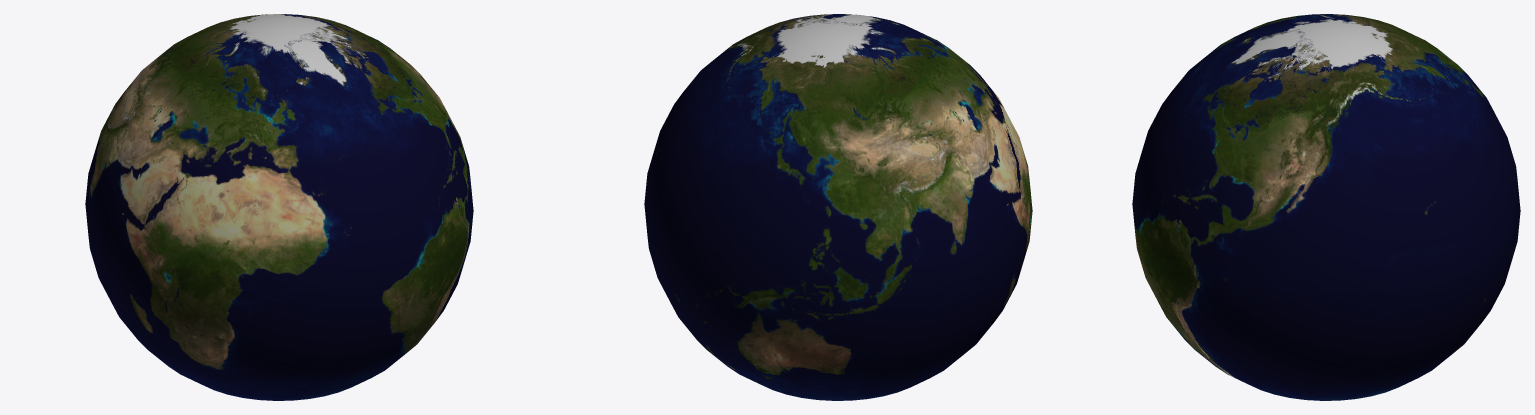
The picture shows the model from 3 angles, left to right: view 1: azimuth 30°, elevation 25°; view 2: azimuth 150°, elevation 25°; view 3: azimuth 270°, elevation 25°; orthographic projection.
Parts seen in each view (by area): view 1: sphere1; view 2: sphere1; view 3: sphere1.
Part boxes in pixels (x1=…): sphere1: x1=85, y1=14, x2=473, y2=400; sphere1: x1=644, y1=14, x2=1032, y2=400; sphere1: x1=1132, y1=14, x2=1520, y2=400.
Size of the model in its own units: 2 by 2 by 2.
3 materials, 2 textured.
